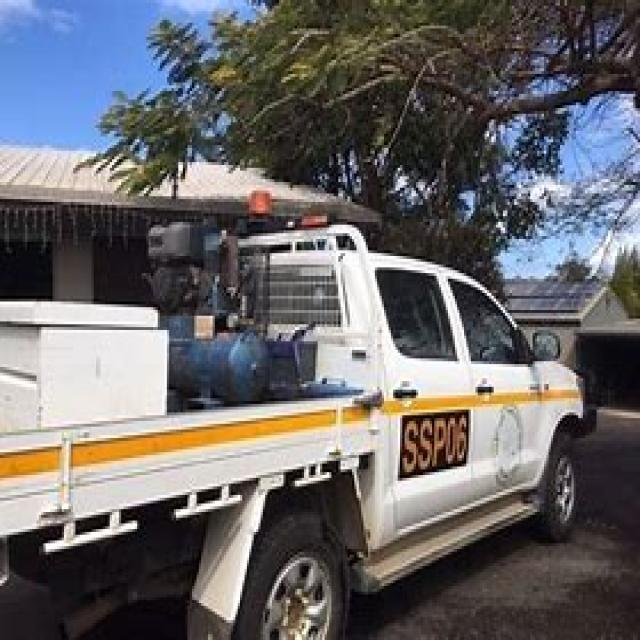light_vehicle: (11, 219, 596, 637)
